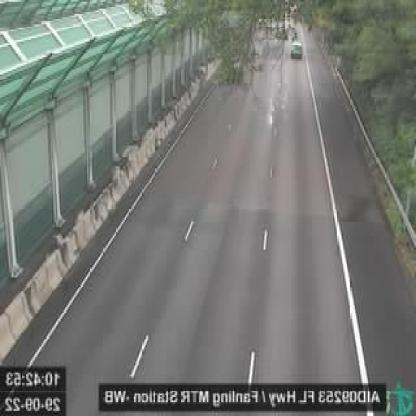Car: (290, 38, 303, 61)
